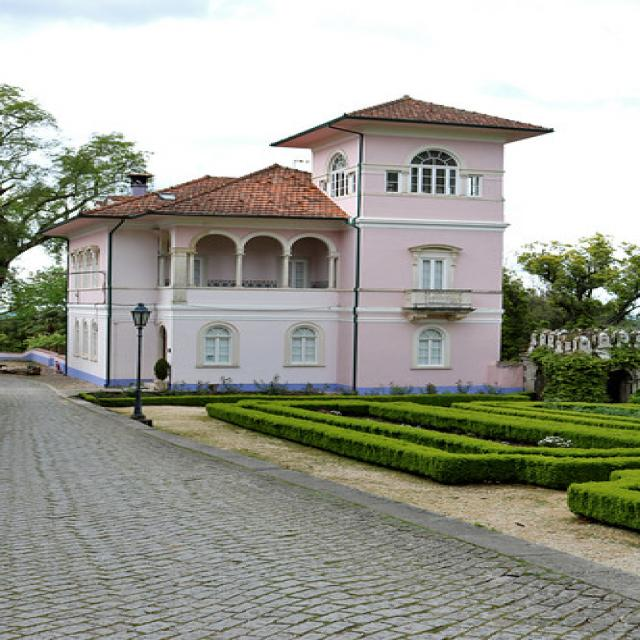Normal_building: (41, 91, 562, 402)
